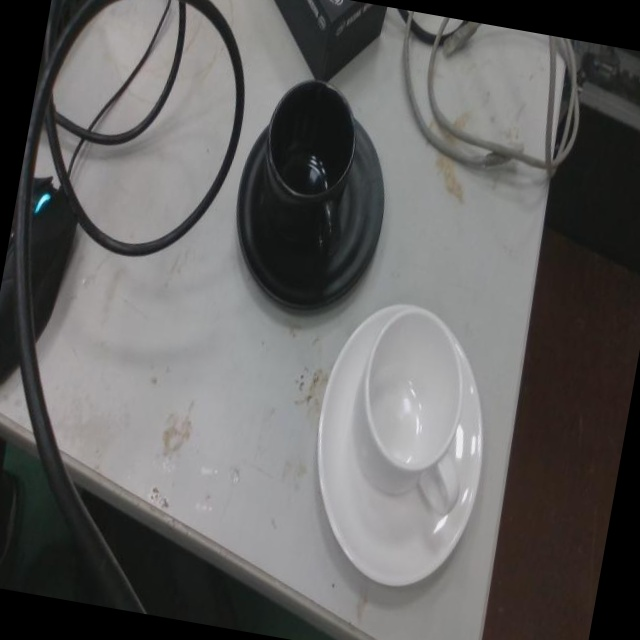black: (236, 76, 388, 318)
white: (314, 299, 487, 590)
